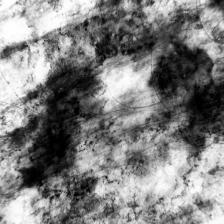Benign Marking or Mole: (16, 34, 224, 224)
